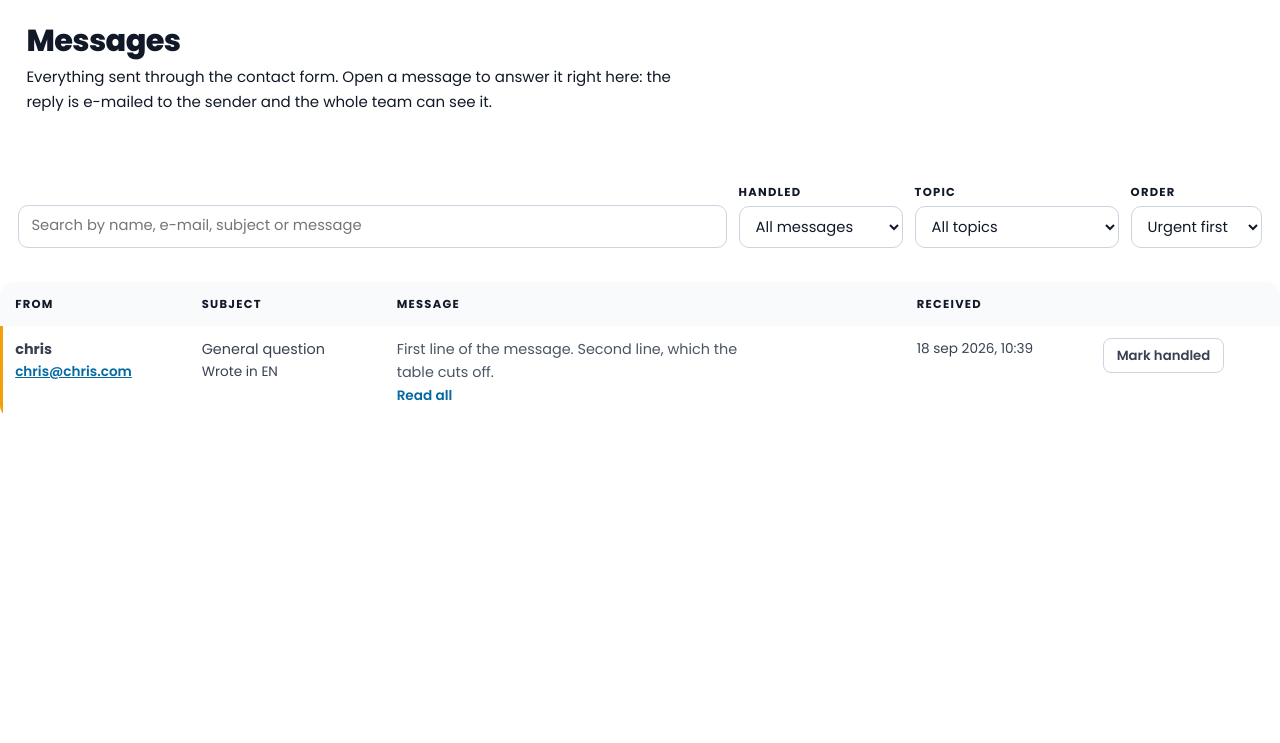
Test case: the messages pop-up › marks the message handled from inside the pop-up
Click the button "Read all" at (424, 396), box top-left (397, 385), bottom-right (452, 407)
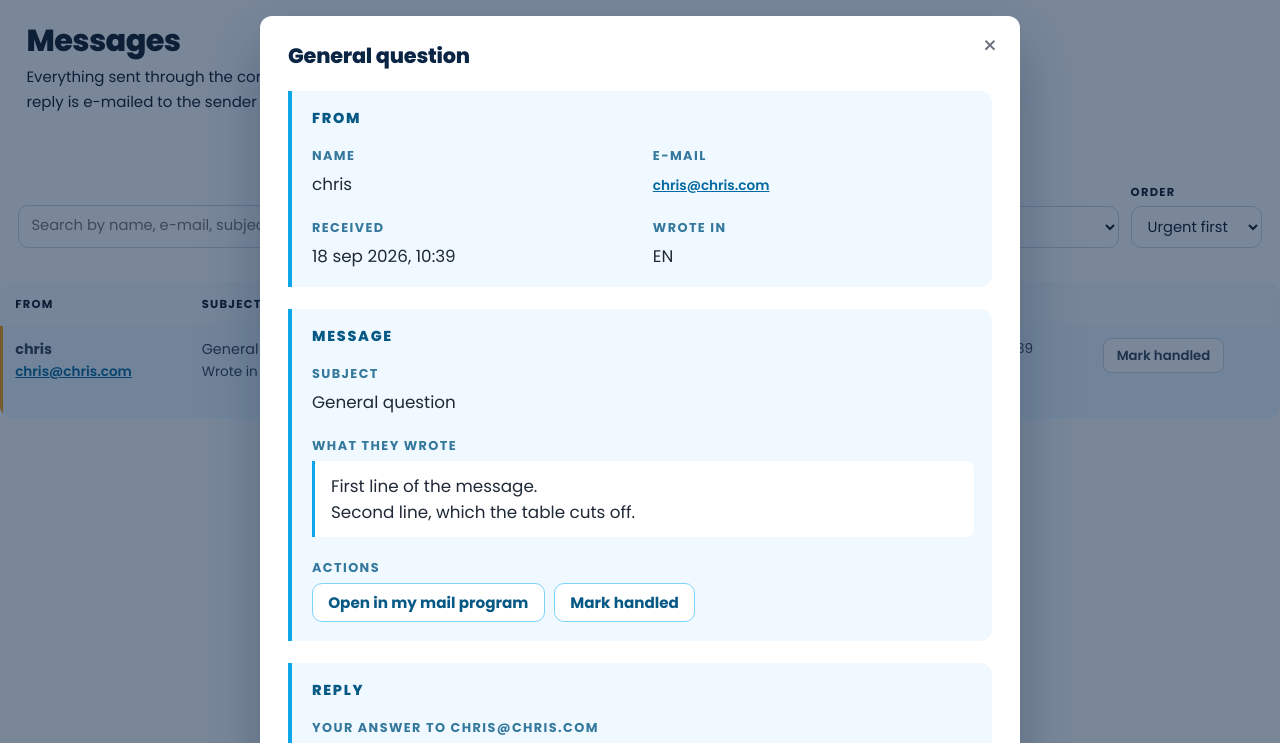
Click the button "Mark handled" at (625, 602), box top-left (554, 583), bottom-right (695, 622)
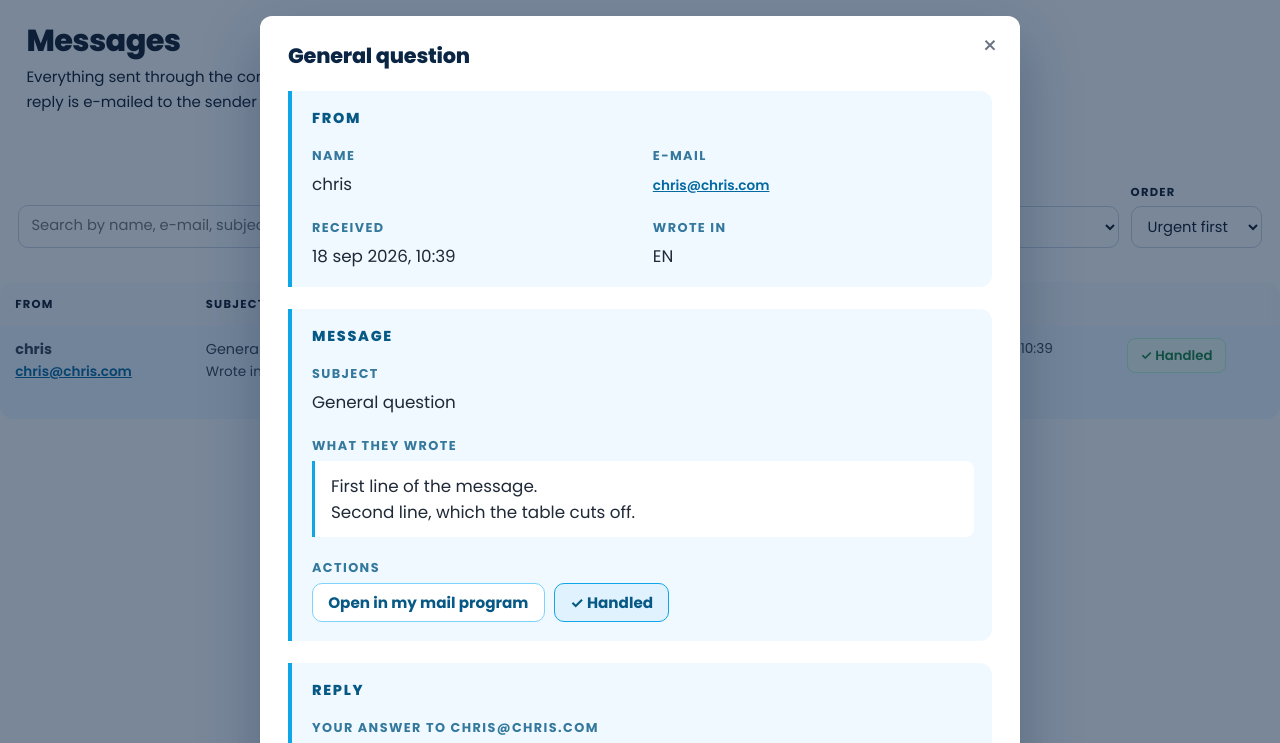
Result: the button "✓ Handled" is shown at top-left (554, 583), bottom-right (669, 622)
